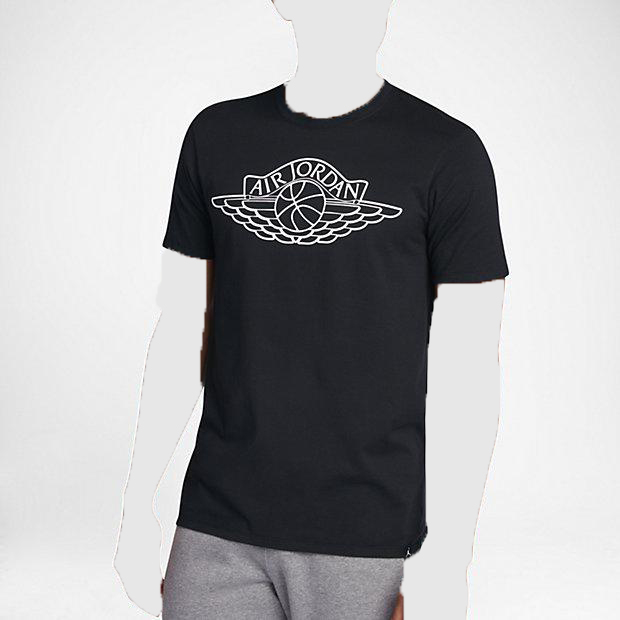teeshirt: (157, 77, 510, 565)
